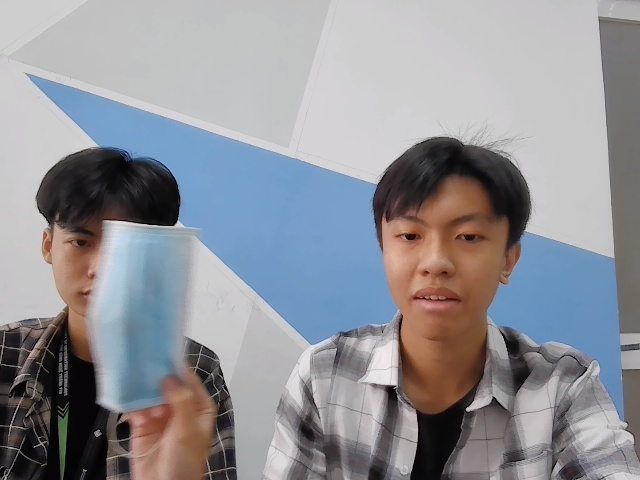human: (372, 137, 528, 338), (39, 140, 186, 316)
mask: (91, 215, 202, 407)
